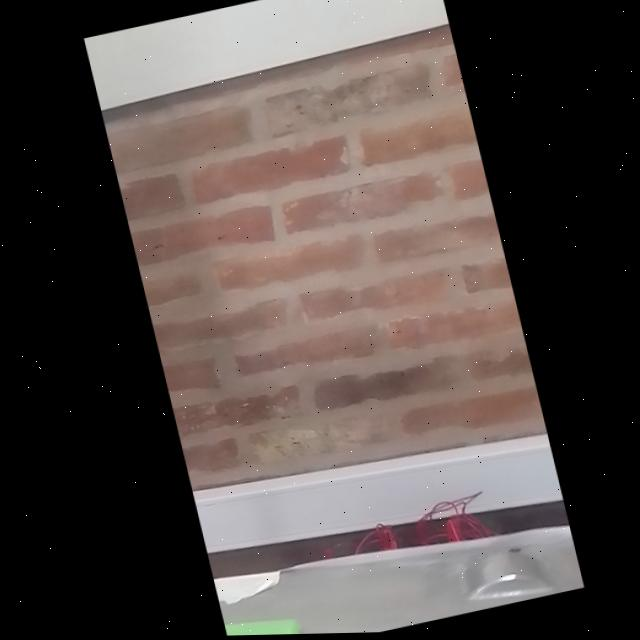greenBox: (215, 591, 316, 637)
